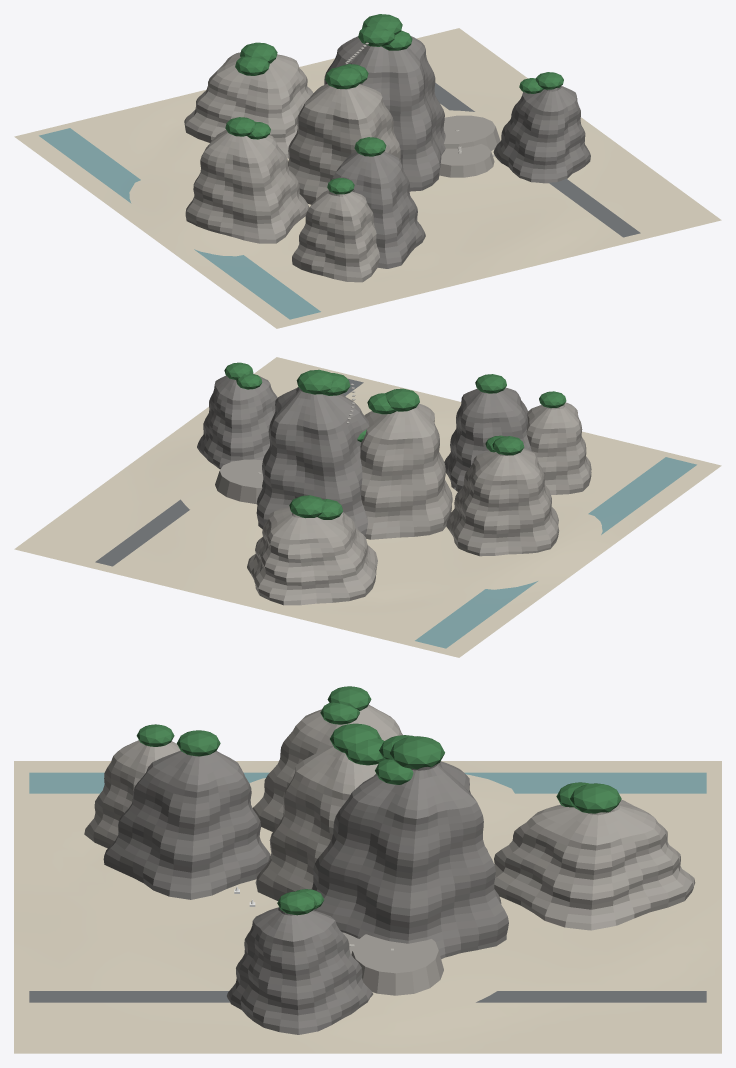
The model's file is mountains-terrain.glb.
3 renders of one model, top to bottom at view 1: azimuth 30°, elevation 25°; view 2: azimuth 150°, elevation 25°; view 3: azimuth 270°, elevation 25°, orthographic. The views are drawn at different scales.
Parts seen in each view (by area): view 1: mt_ground, mt_rock, mt_cliff, mt_canopy, mt_river, mt_terrace, mt_road; view 2: mt_ground, mt_rock, mt_cliff, mt_canopy, mt_river, mt_terrace, mt_road; view 3: mt_ground, mt_cliff, mt_rock, mt_canopy, mt_river, mt_road, mt_terrace.
Part boxes in pixels (left/top/right/bottom): mt_ground: left=14, top=28, right=721, bottom=328; mt_rock: left=184, top=52, right=400, bottom=282; mt_cliff: left=324, top=36, right=590, bottom=268; mt_canopy: left=225, top=14, right=563, bottom=194; mt_river: left=39, top=128, right=320, bottom=319; mt_terrace: left=439, top=115, right=500, bottom=177; mt_road: left=434, top=83, right=640, bottom=237; mt_ground: left=14, top=357, right=721, bottom=657; mt_rock: left=247, top=402, right=591, bottom=605; mt_cliff: left=197, top=373, right=531, bottom=536; mt_canopy: left=224, top=362, right=566, bottom=519; mt_river: left=415, top=457, right=696, bottom=648; mt_terrace: left=215, top=459, right=263, bottom=503; mt_road: left=95, top=378, right=363, bottom=566; mt_ground: left=14, top=761, right=721, bottom=1053; mt_cliff: left=103, top=751, right=508, bottom=1034; mt_rock: left=84, top=705, right=695, bottom=930; mt_canopy: left=136, top=686, right=621, bottom=915; mt_river: left=29, top=772, right=706, bottom=793; mt_road: left=29, top=991, right=706, bottom=1002; mt_terrace: left=342, top=932, right=443, bottom=995.
Size of the model in its own units: 450 by 136 by 460.
